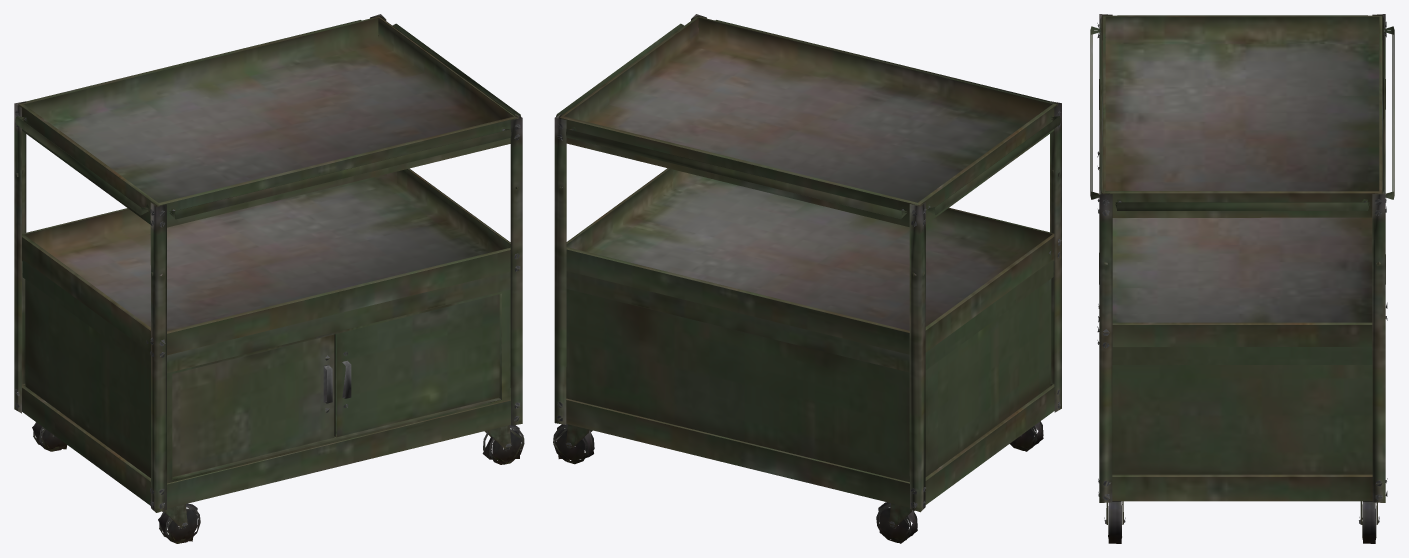
Rendered from storage_cart.glb.
3 renders of one model, left to right at view 1: azimuth 30°, elevation 25°; view 2: azimuth 150°, elevation 25°; view 3: azimuth 270°, elevation 25°, orthographic.
Parts seen in each view (by area): view 1: storage_cart; view 2: storage_cart; view 3: storage_cart.
Boxes of the visible parts, x1=… form: storage_cart: x1=14, y1=14, x2=524, y2=543; storage_cart: x1=553, y1=14, x2=1061, y2=543; storage_cart: x1=1090, y1=14, x2=1394, y2=543.
Size of the model in its own units: 1.15 by 1 by 0.7852.
Materials: 1 (1 with a texture image).
